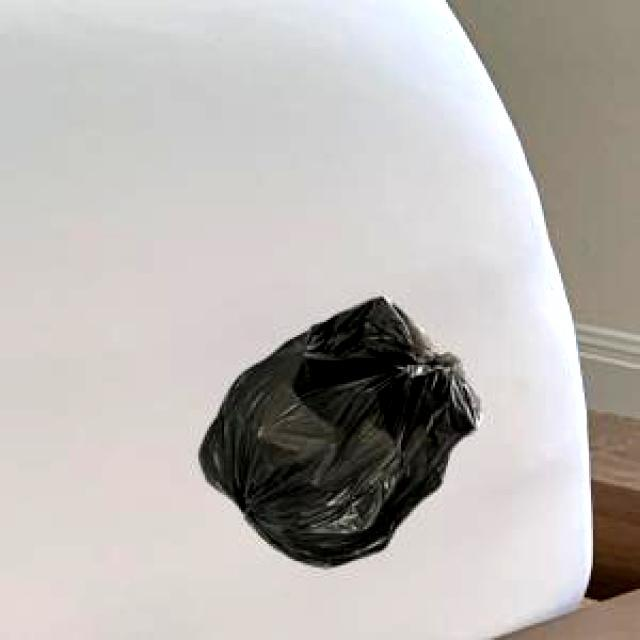Garbage_Bag: (195, 294, 479, 564)
